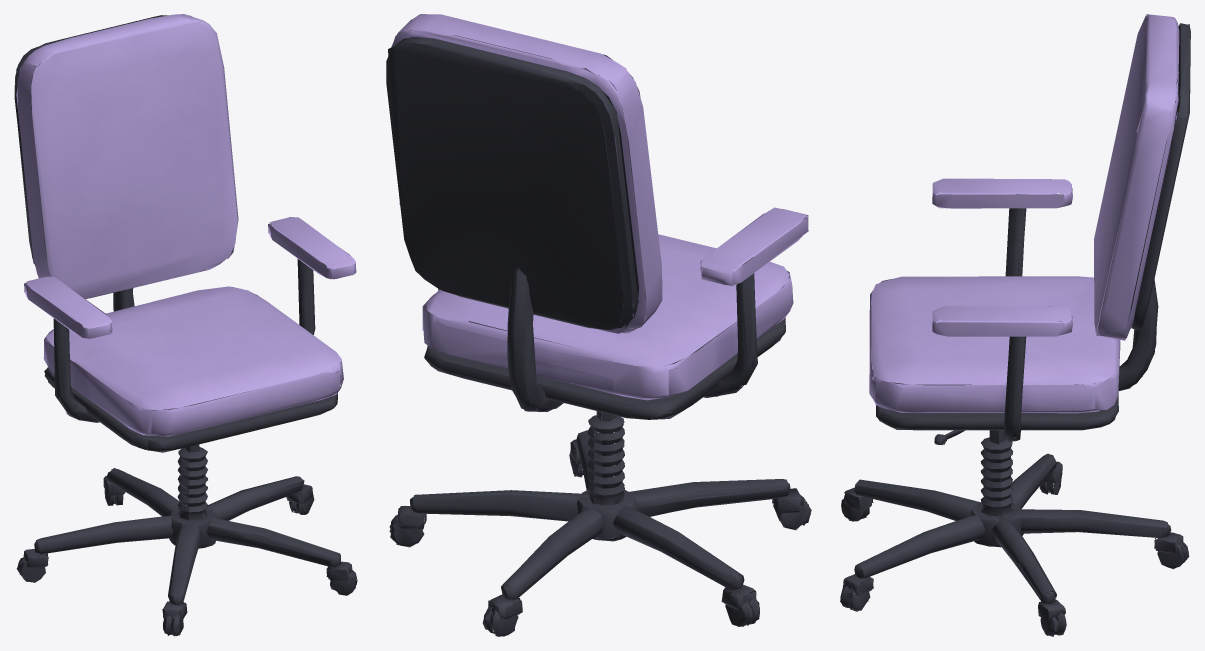
Rendered from office-chair-jogo.obj.
3 renders of one model, left to right at view 1: azimuth 30°, elevation 25°; view 2: azimuth 150°, elevation 25°; view 3: azimuth 270°, elevation 25°, orthographic. The views are drawn at different scales.
Parts seen in each view (by area): view 1: office-chair-jogo; view 2: office-chair-jogo; view 3: office-chair-jogo.
Boxes of the visible parts, x1,y1,x2,y2 form: office-chair-jogo: (14, 14, 357, 636); office-chair-jogo: (386, 14, 811, 636); office-chair-jogo: (840, 14, 1190, 636).
Bounding box in the file's own units: 0.6989 × 1.08 × 0.6681.
Materials: 1 (1 with a texture image).
